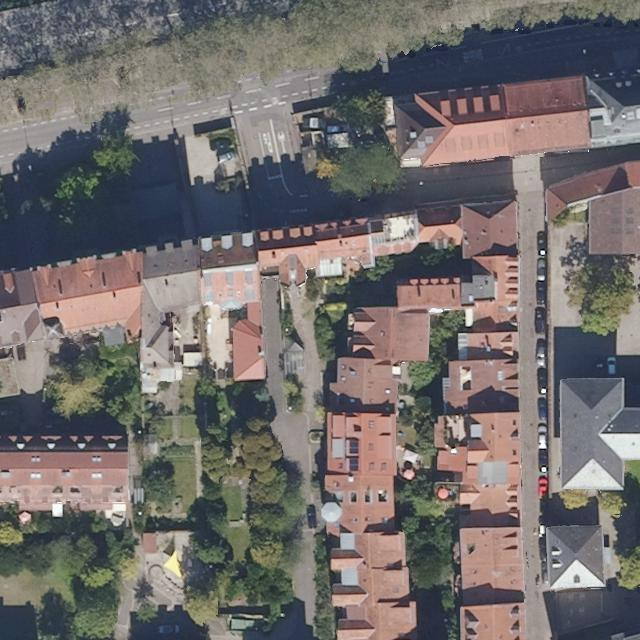PV: (349, 438, 358, 454), (349, 457, 358, 472)
